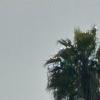Palm tree: (45, 28, 99, 99)
